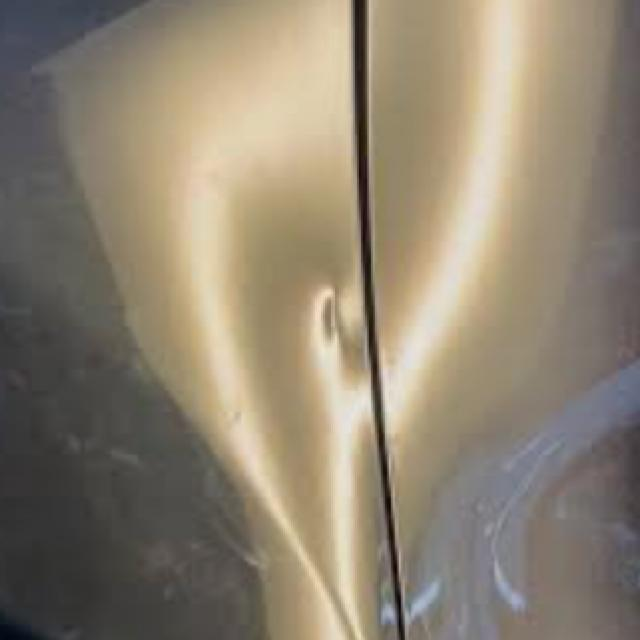dents: (302, 280, 366, 377)
